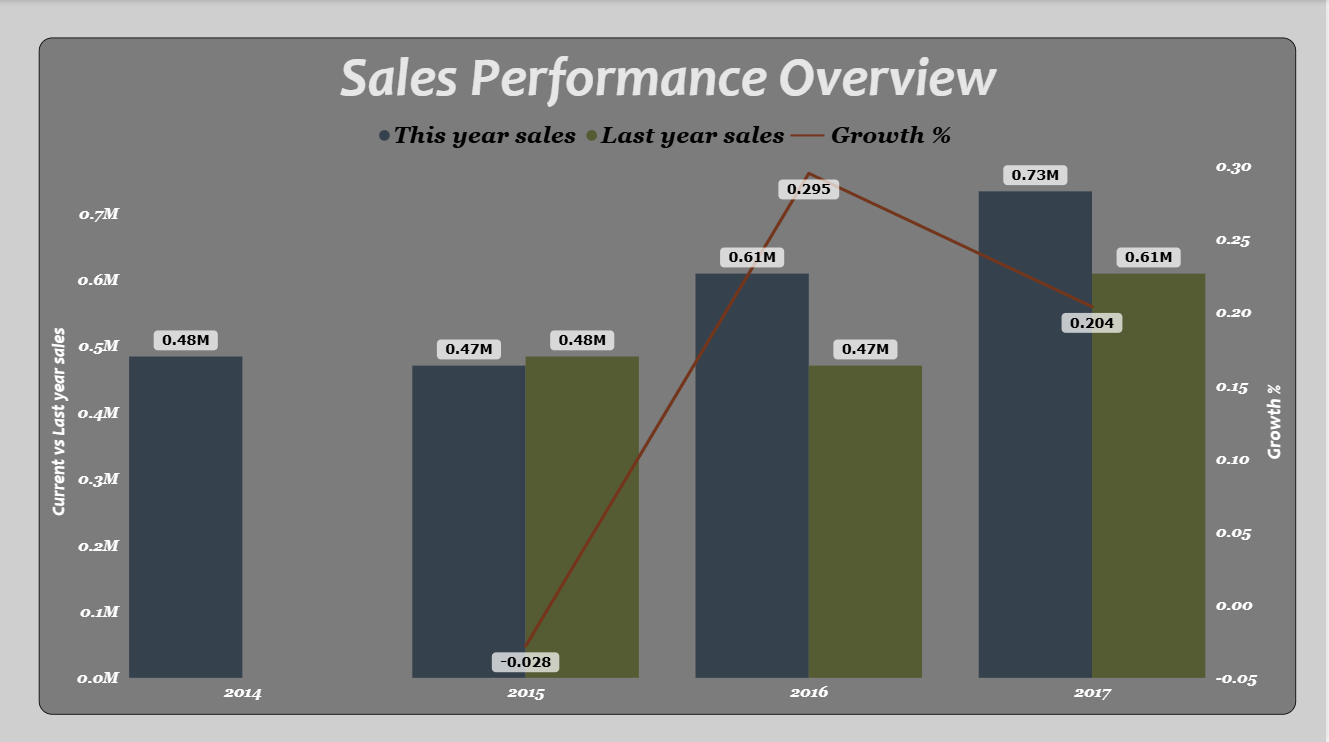

What the dashboard file says about the page in this screenshot:
{"tool":"powerbi","page":{"name":"Q2.","canvas":[1280,720],"ordinal":1},"visuals":[{"type":"lineClusteredColumnComboChart","title":"Sales Performance Overview","fields":{"Category":["Date Table.Year"],"Y":["Orders.This year sales","Orders.Last year sales"],"Y2":["Orders.Growth %"]},"box":[37.4,36.2,1213.7,653.9],"z":0}]}

Visuals, with their boxes in screenshot pixels (x1, y1, x2, y2), scaled from the page's 1280x720 canvas onto the 1329x742 screenshot:
"Sales Performance Overview" lineClusteredColumnComboChart: [x1=39, y1=37, x2=1299, y2=711]
